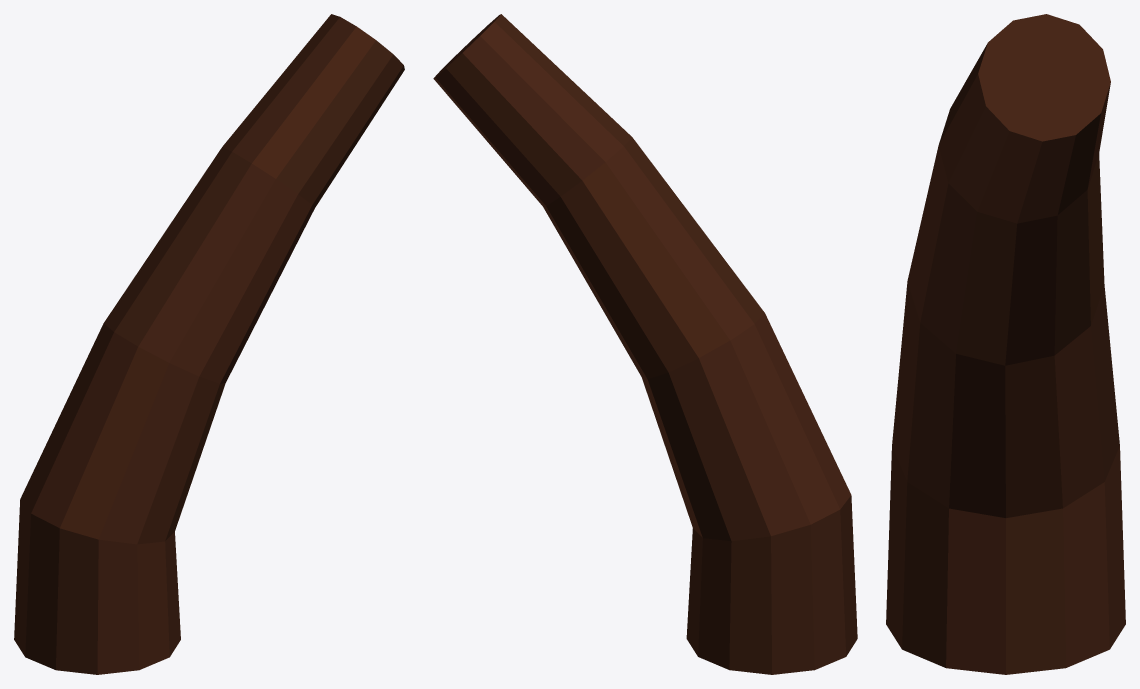
Rendered from N04_Branch_Curved.fbx.
The picture shows the model from 3 angles, left to right: view 1: azimuth 30°, elevation 25°; view 2: azimuth 150°, elevation 25°; view 3: azimuth 270°, elevation 25°; orthographic projection. The views are drawn at different scales.
Visible parts, largest first — view 1: N04_Branch_Curved; view 2: N04_Branch_Curved; view 3: N04_Branch_Curved.
Part boxes in pixels (x1,y1,x2,y2): N04_Branch_Curved: (14, 14, 404, 674); N04_Branch_Curved: (433, 14, 857, 674); N04_Branch_Curved: (886, 14, 1125, 674).
Bounding box in the file's own units: 0.7425 × 1.02 × 0.28.
1 material, 1 textured.
